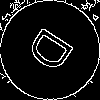D: (25, 25, 83, 80)
